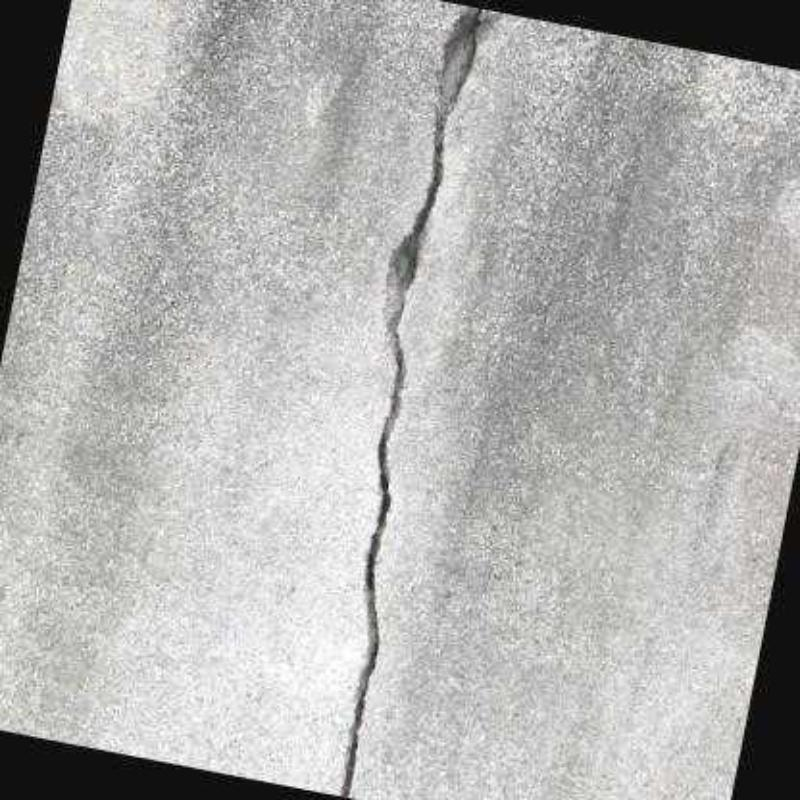pothole: (340, 7, 481, 798)
